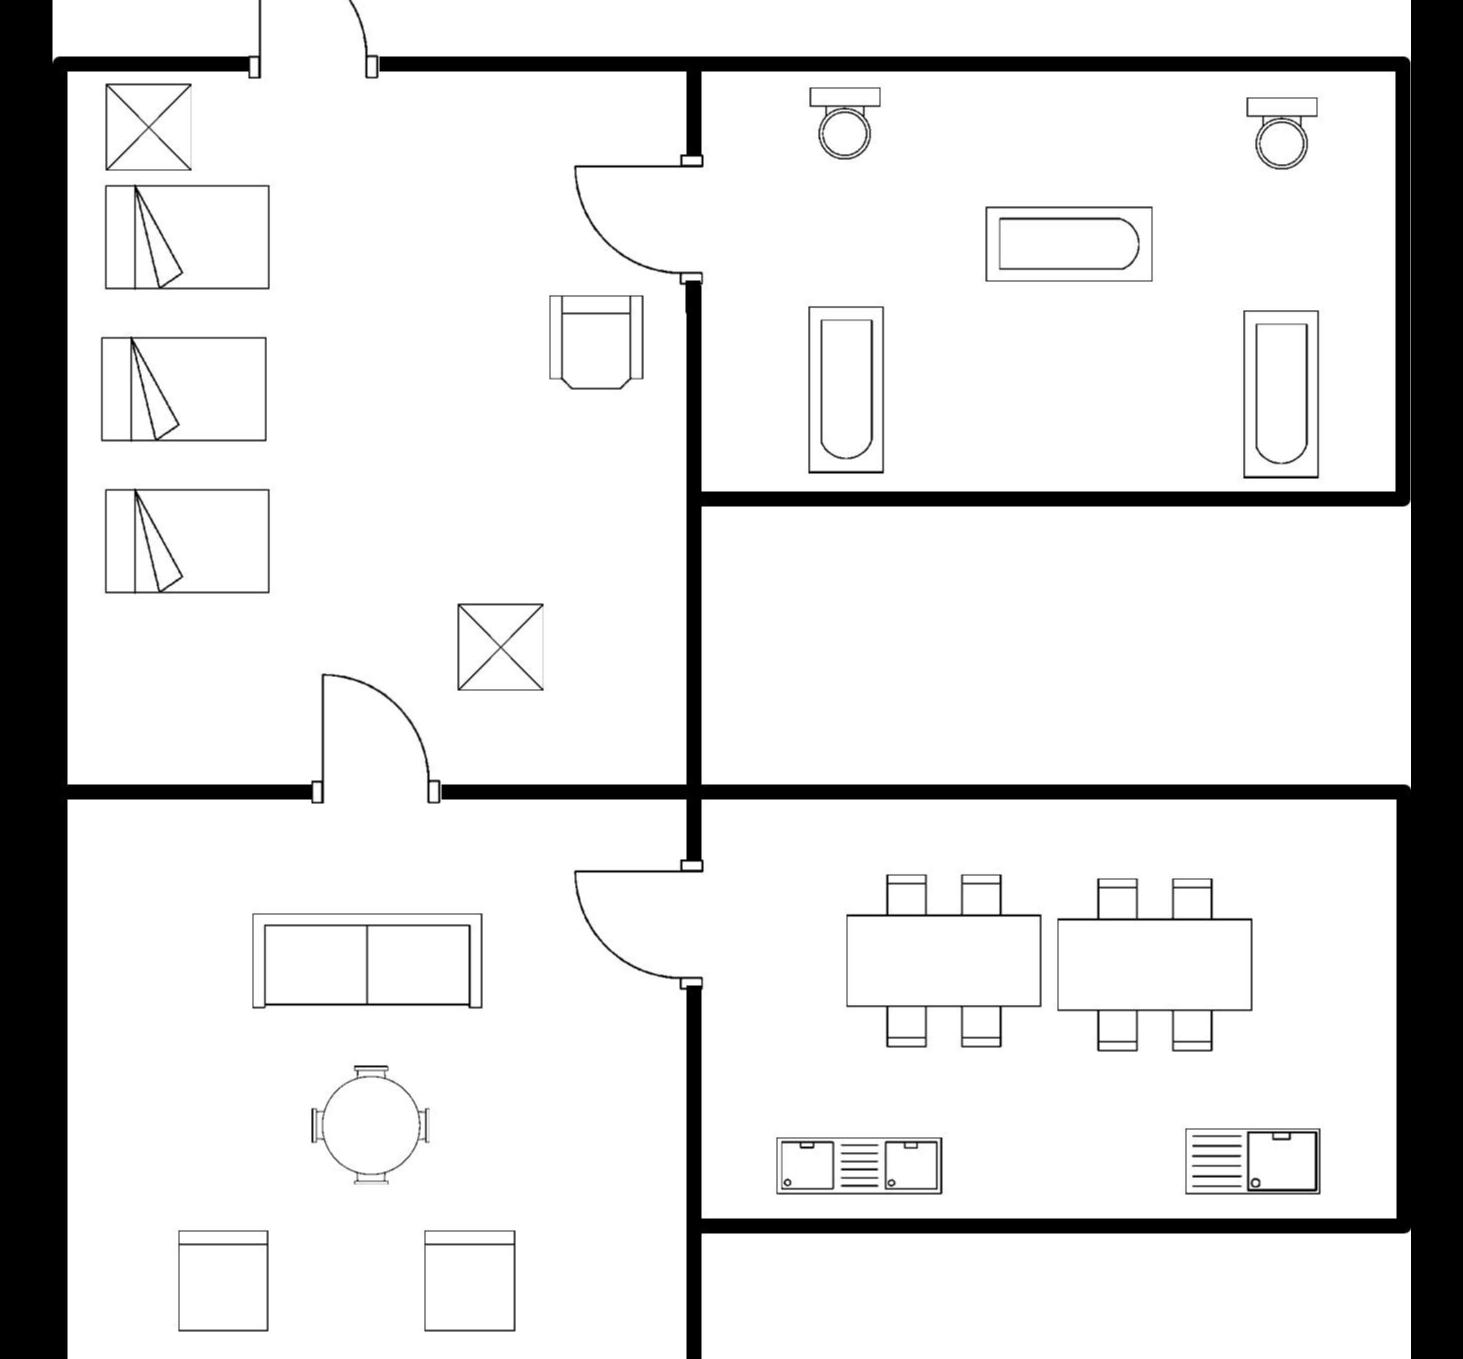sink: (762, 1127, 951, 1203)
